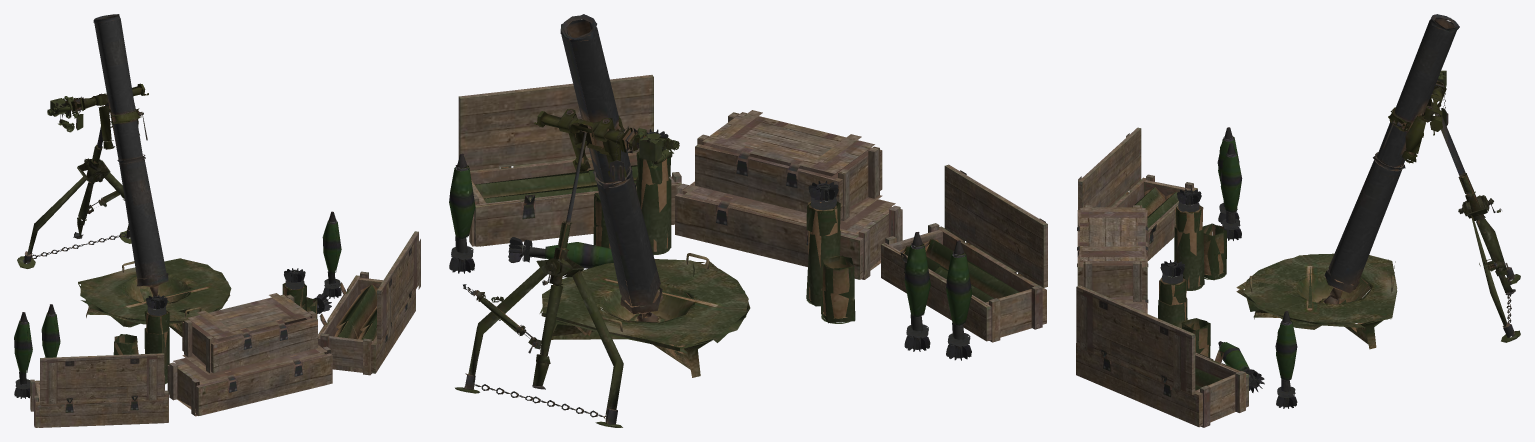
The model's file is mortar120.glb.
3 views of the same model, side by side, from view 1: azimuth 30°, elevation 25°; view 2: azimuth 150°, elevation 25°; view 3: azimuth 270°, elevation 25° (orthographic). The views are drawn at different scales.
Size of the model in its own units: 2.98 by 1.89 by 2.52.
Materials: 1 (1 with a texture image).
